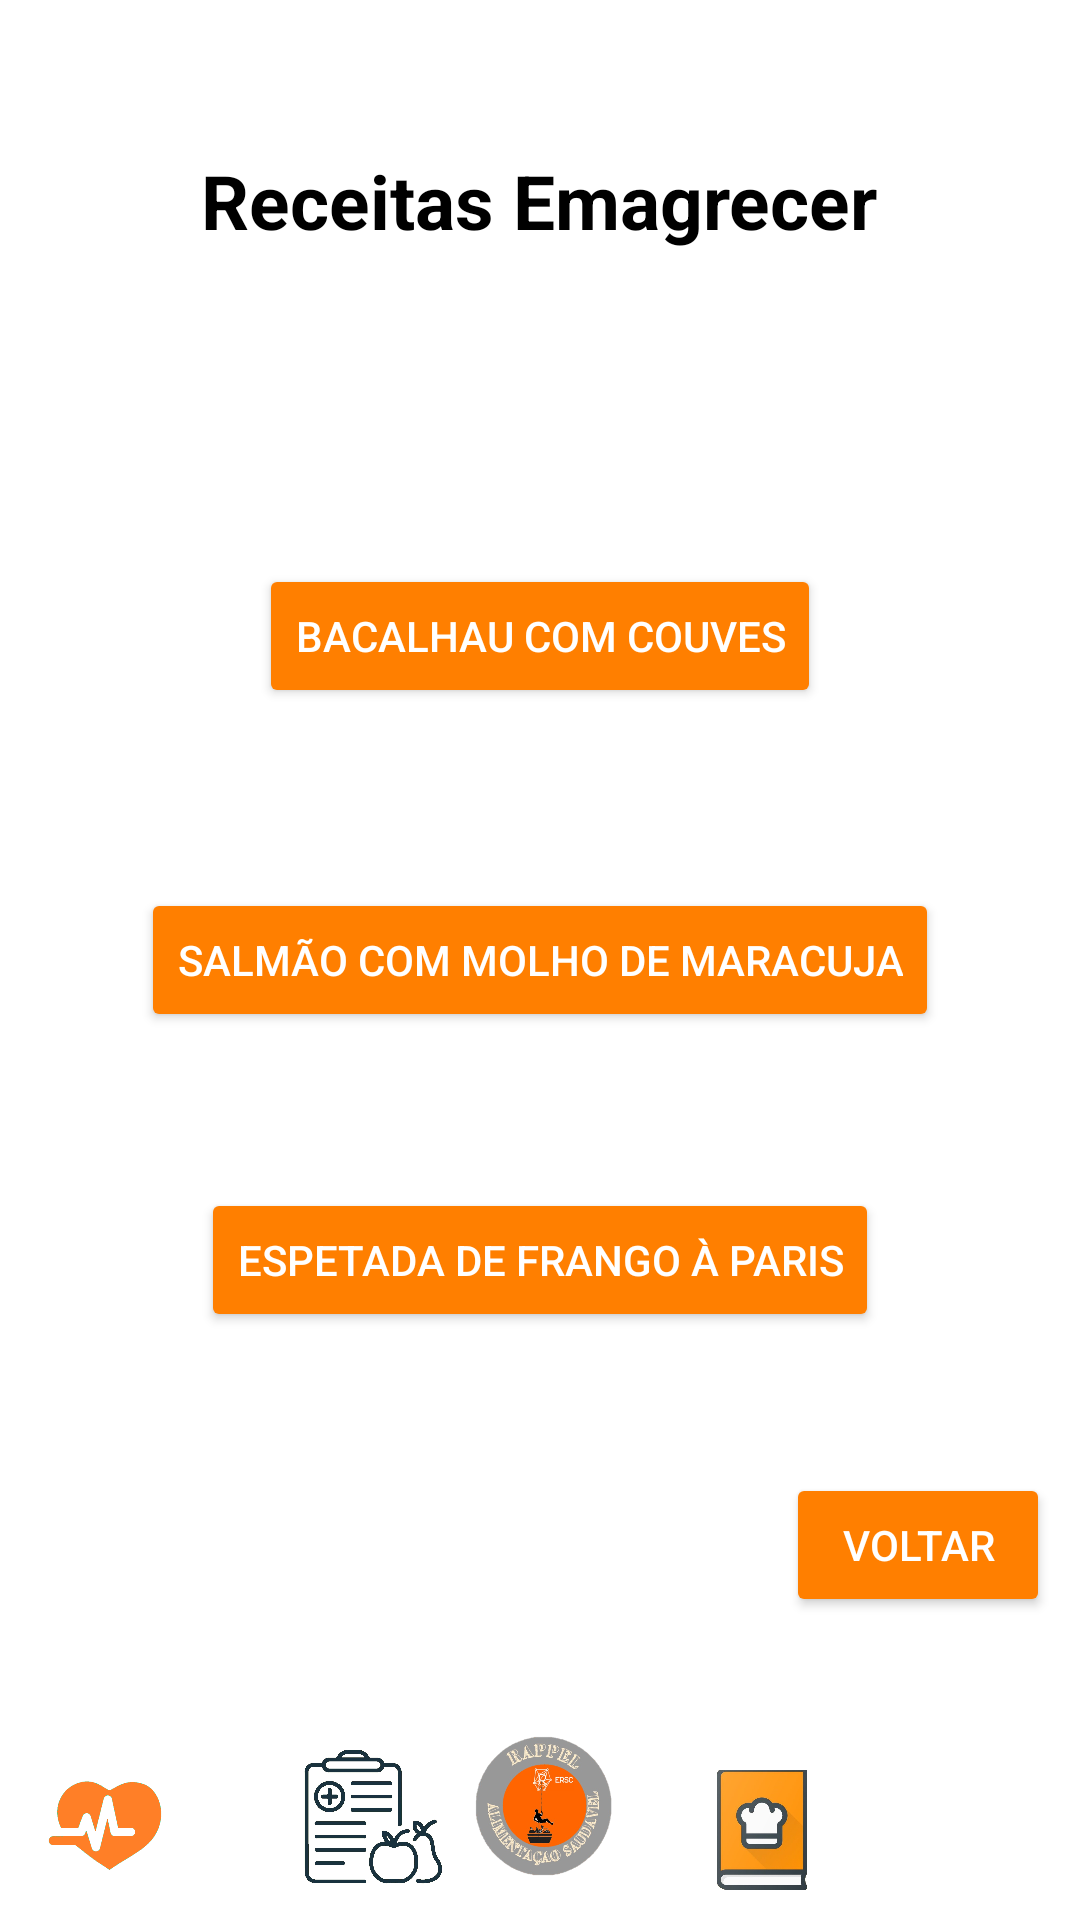

Where icons sit on this 1080×1920 app screen, as (x1, y1, x2, y2):
plano: (304, 1750, 442, 1883)
planodesaude: (49, 1781, 161, 1870)
